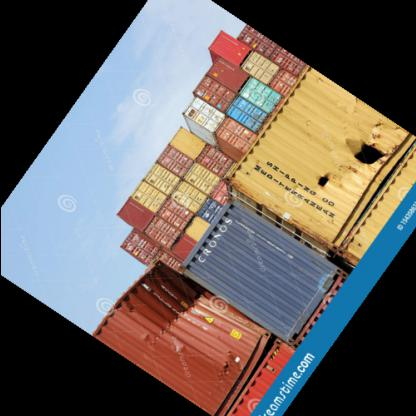Damage: (133, 265, 207, 315), (340, 129, 386, 175), (305, 168, 337, 198)
